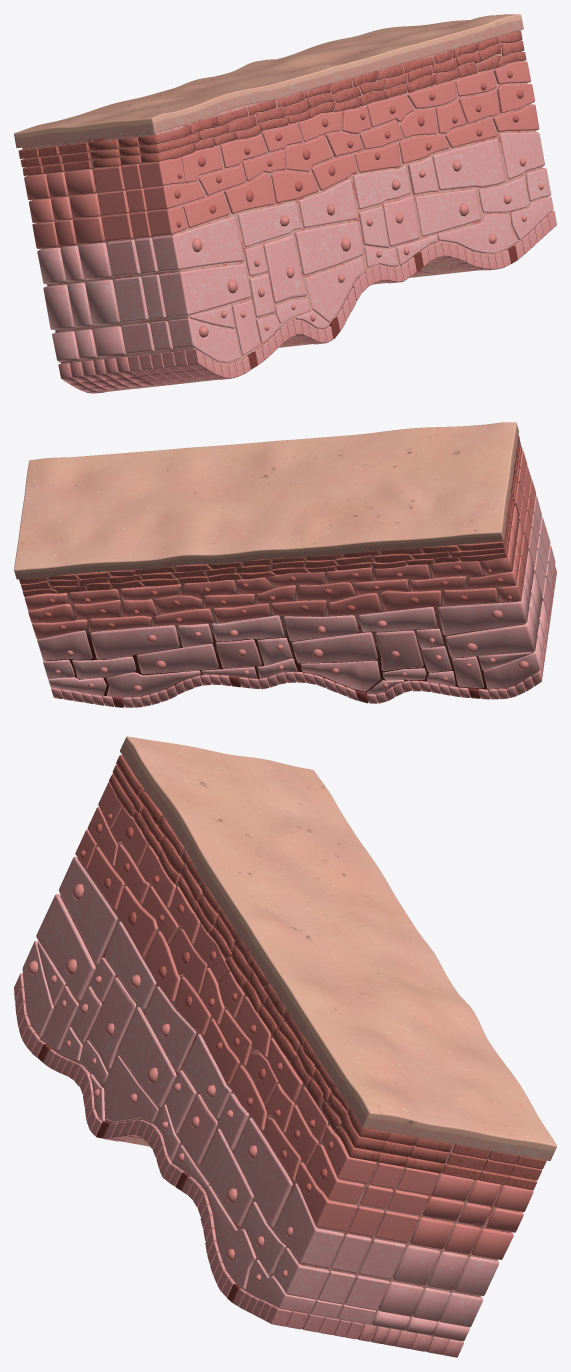
3 views of the same model, one above another, from view 1: azimuth 30°, elevation 25°; view 2: azimuth 150°, elevation 25°; view 3: azimuth 270°, elevation 25° (orthographic). The views are drawn at different scales.
Visible parts, largest first — view 1: FourthLayerBack, ThirdLayerBack, TopLayer, SecondLayerFront, Body, FifthLayerBack; view 2: TopLayer, FourthLayerBack, ThirdLayerBack, SecondLayerFront, FifthLayerBack, Body; view 3: TopLayer, FourthLayerBack, ThirdLayerBack, SecondLayerFront, FifthLayerBack, Body.
Boxes of the visible parts, <box> form: FourthLayerBack: <box>37,132,553,362</box>; ThirdLayerBack: <box>24,61,539,248</box>; TopLayer: <box>14,14,523,147</box>; SecondLayerFront: <box>18,30,526,175</box>; Body: <box>22,31,547,391</box>; FifthLayerBack: <box>58,210,556,393</box>; TopLayer: <box>14,422,518,579</box>; FourthLayerBack: <box>37,495,555,697</box>; ThirdLayerBack: <box>24,450,536,639</box>; SecondLayerFront: <box>19,435,522,596</box>; FifthLayerBack: <box>51,565,556,707</box>; Body: <box>40,542,538,698</box>; TopLayer: <box>120,736,556,1161</box>; FourthLayerBack: <box>22,856,498,1341</box>; ThirdLayerBack: <box>75,782,533,1259</box>; SecondLayerFront: <box>109,755,546,1190</box>; FifthLayerBack: <box>14,973,463,1357</box>; Body: <box>31,760,519,1350</box>.
Size of the model in its own units: 1.72 by 1.02 by 1.27.
Materials: 2 (2 with a texture image).
